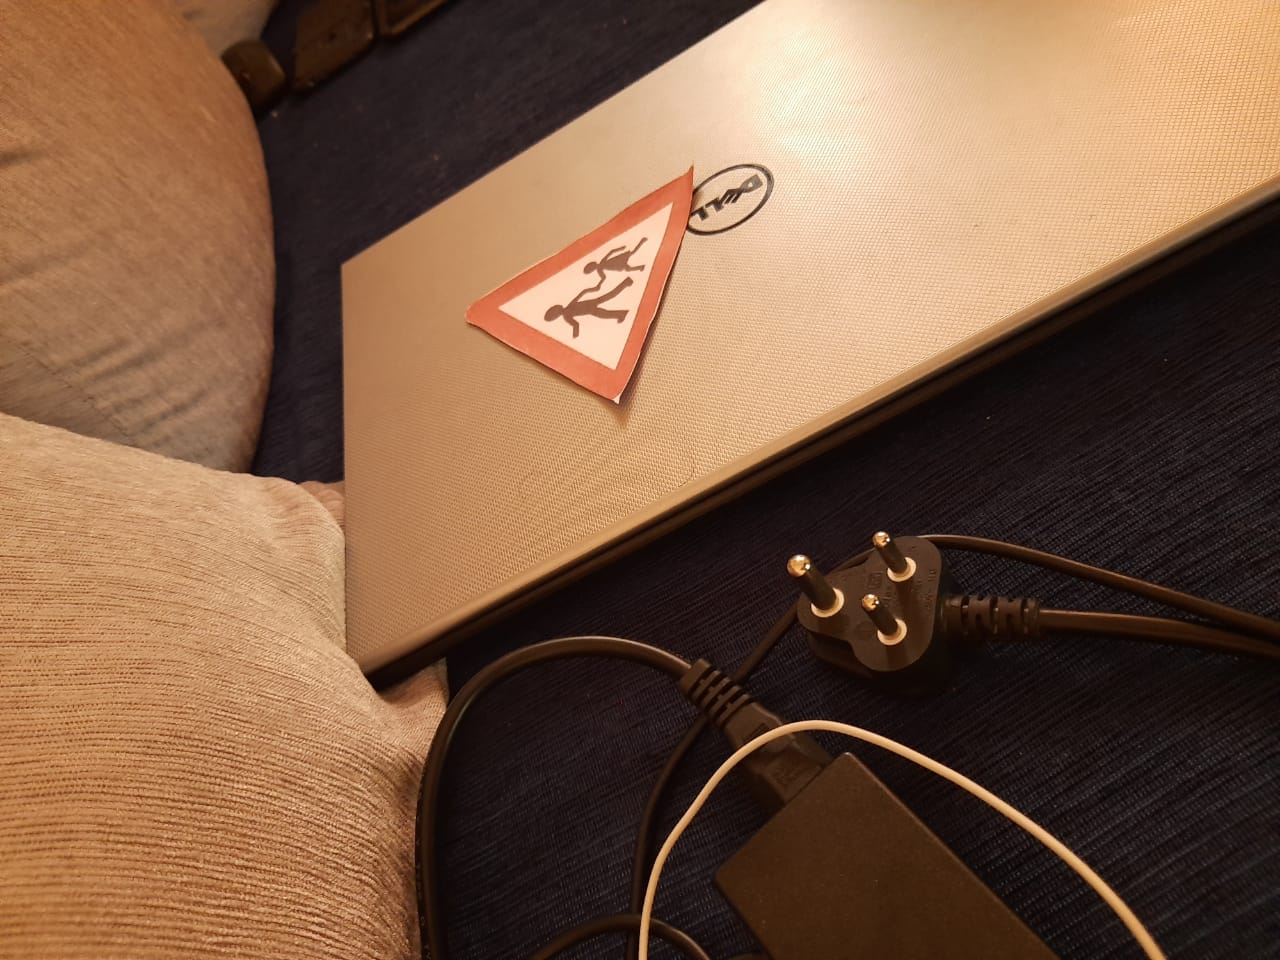SCHOOL ZONE: (464, 162, 688, 406)
